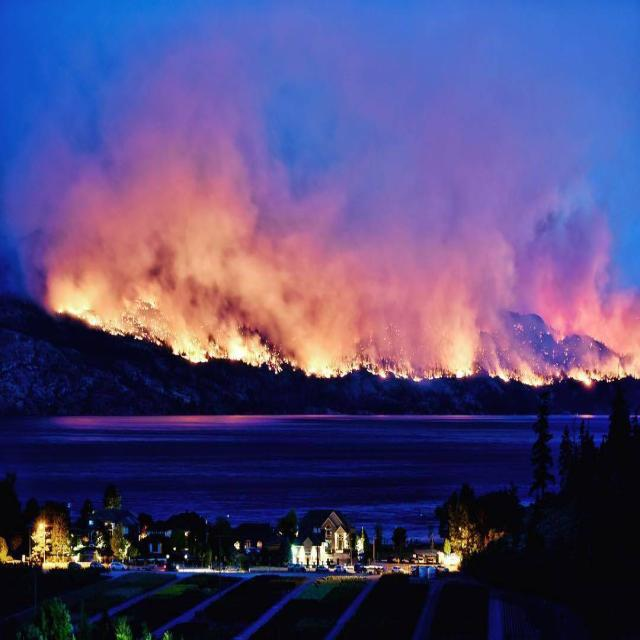Fire: (60, 274, 283, 379), (483, 346, 631, 396), (312, 338, 440, 386), (447, 334, 474, 378)
Smoke: (22, 68, 354, 264), (328, 134, 483, 272), (500, 159, 618, 321)
